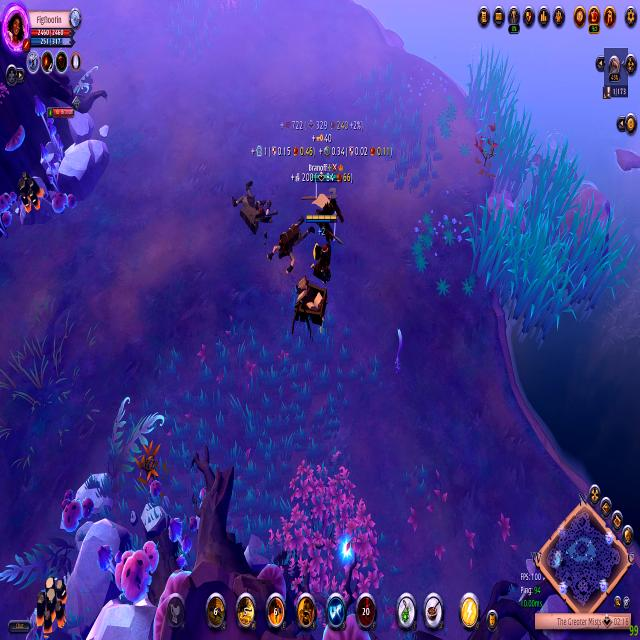player: (10, 168, 61, 237), (29, 563, 72, 640)
red: (303, 154, 348, 250), (302, 211, 340, 296)
